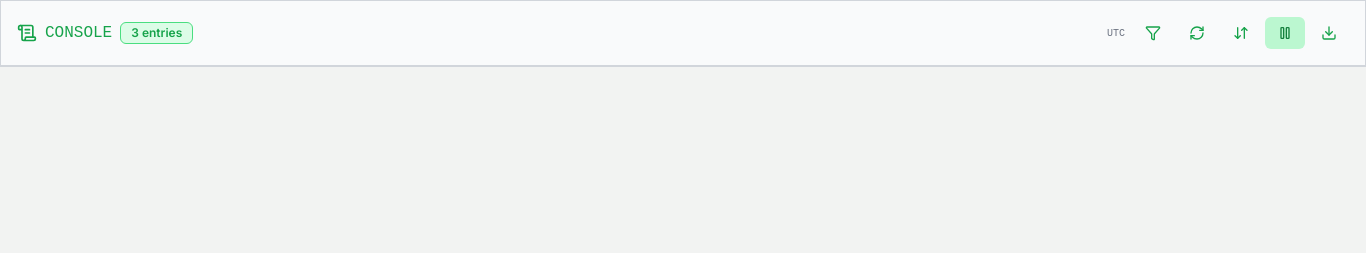
it: ConsoleInterface › search and filtering › updates entry count based on filter
This screenshot has width=1366, height=253.
Expected: the text "3 entries" is shown, left=120, top=22, right=193, bottom=44
// Click filter button
Click the 1st button at (1153, 33), box left=1133, top=17, right=1173, bottom=49
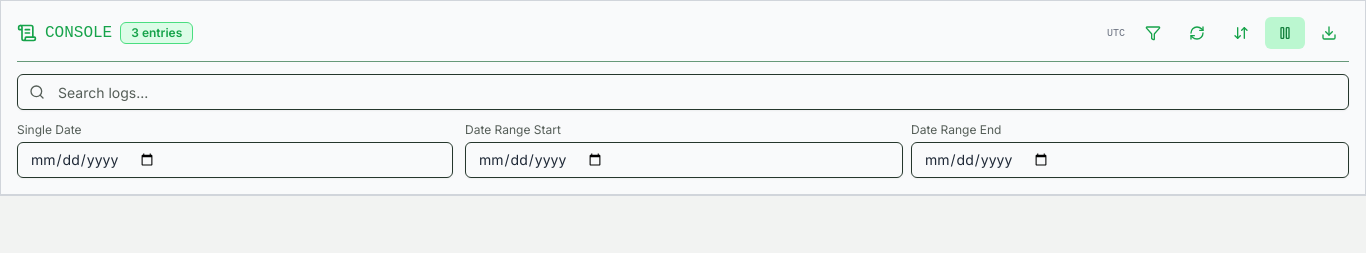
Type "Match" into the field with placeholder "Search logs..." at (683, 92), box left=17, top=74, right=1349, bottom=110
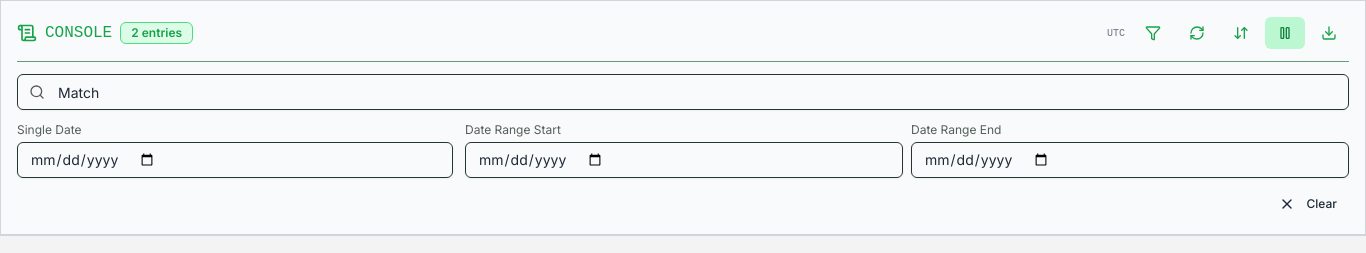
Now the text "2 entries" is shown, box left=120, top=22, right=193, bottom=44
